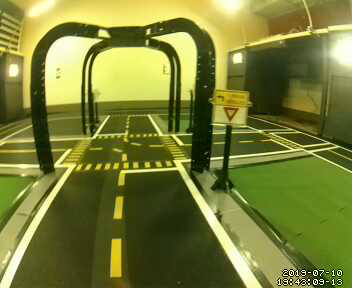Turn Yield: (211, 87, 249, 129)
